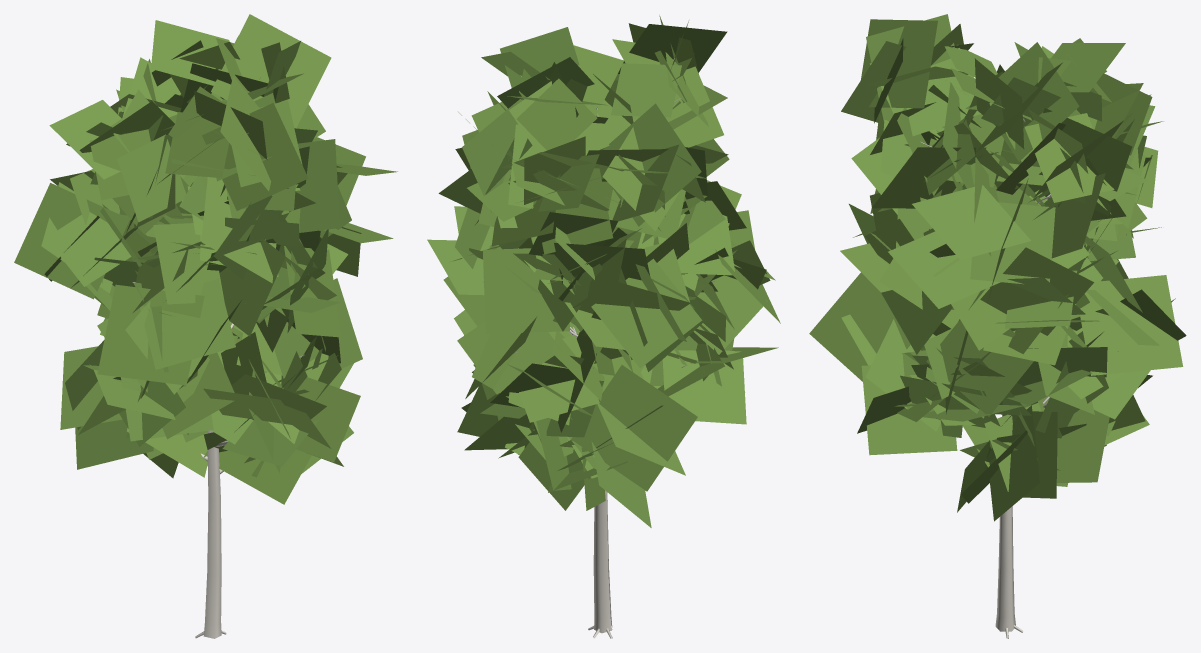
File: birch-0-lod2.glb
3 renders of one model, left to right at view 1: azimuth 30°, elevation 25°; view 2: azimuth 150°, elevation 25°; view 3: azimuth 270°, elevation 25°, orthographic. The views are drawn at different scales.
Visible parts, largest first — view 1: birch-0-lod2-foliage, birch-0-lod2-bark; view 2: birch-0-lod2-foliage, birch-0-lod2-bark; view 3: birch-0-lod2-foliage, birch-0-lod2-bark.
Part boxes in pixels (x1,y1,x2,y2): birch-0-lod2-foliage: (14, 14, 397, 504); birch-0-lod2-bark: (132, 133, 304, 638); birch-0-lod2-foliage: (427, 15, 780, 527); birch-0-lod2-bark: (515, 58, 714, 638); birch-0-lod2-foliage: (809, 14, 1186, 521); birch-0-lod2-bark: (921, 118, 1051, 638).
Bounding box in the file's own units: 10.55 × 19.15 × 10.83.
